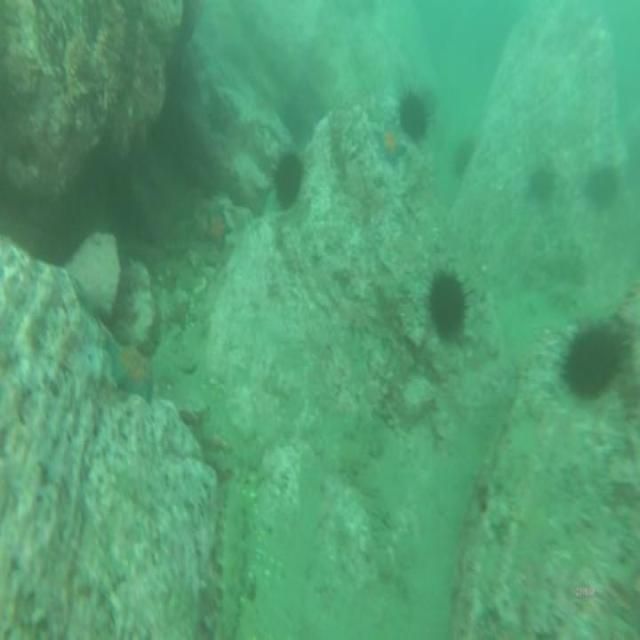echinus: (568, 322, 620, 397), (430, 276, 466, 343), (398, 91, 428, 140), (453, 131, 478, 182), (274, 155, 300, 204), (585, 166, 615, 207), (529, 166, 550, 196)
holothurian: (217, 485, 247, 639)
starfish: (106, 339, 152, 396), (374, 122, 404, 166), (205, 208, 228, 246)
